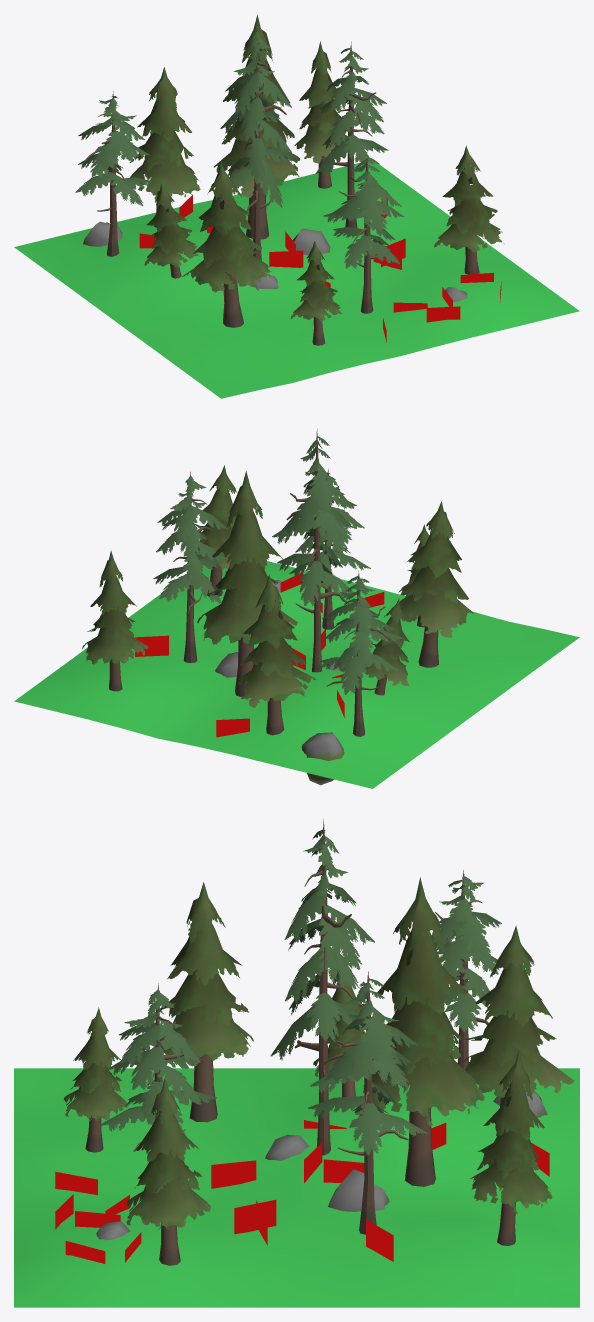
Rendered from ForestAlt1.fbx.
The picture shows the model from 3 angles, top to bottom: view 1: azimuth 30°, elevation 25°; view 2: azimuth 150°, elevation 25°; view 3: azimuth 270°, elevation 25°; orthographic projection. The views are drawn at different scales.
Visible parts, largest first — view 1: polySurface260; view 2: polySurface260; view 3: polySurface260.
Boxes of the visible parts, box(x1,y1,x2,y2) form: polySurface260: box(14, 14, 579, 398); polySurface260: box(14, 428, 579, 788); polySurface260: box(14, 819, 579, 1307).
Size of the model in its own units: 1 by 0.7575 by 1.
